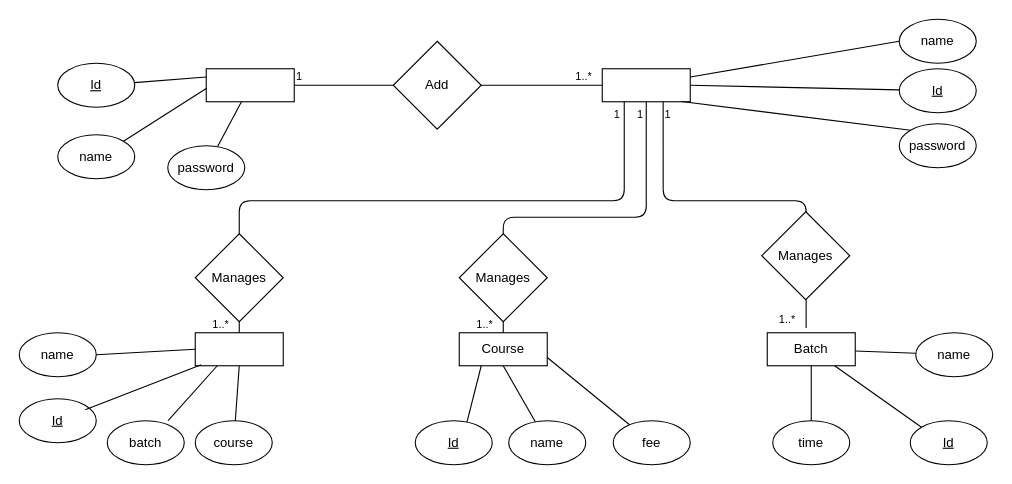
The diagram is 1012 pixels wide and 484 high, and some of its shapes have lost their labels. The shapes that lost their labels are listed below. From the top down, each one's box as (x1, y1, x2, y2) in pixels, then its label:
(205, 68, 294, 102): Admin
(601, 68, 690, 102): Manager
(194, 332, 283, 366): Student
